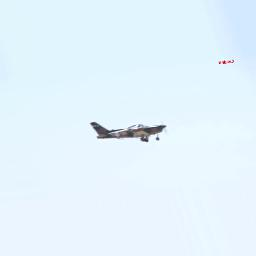Airplane: (90, 120, 167, 144)
